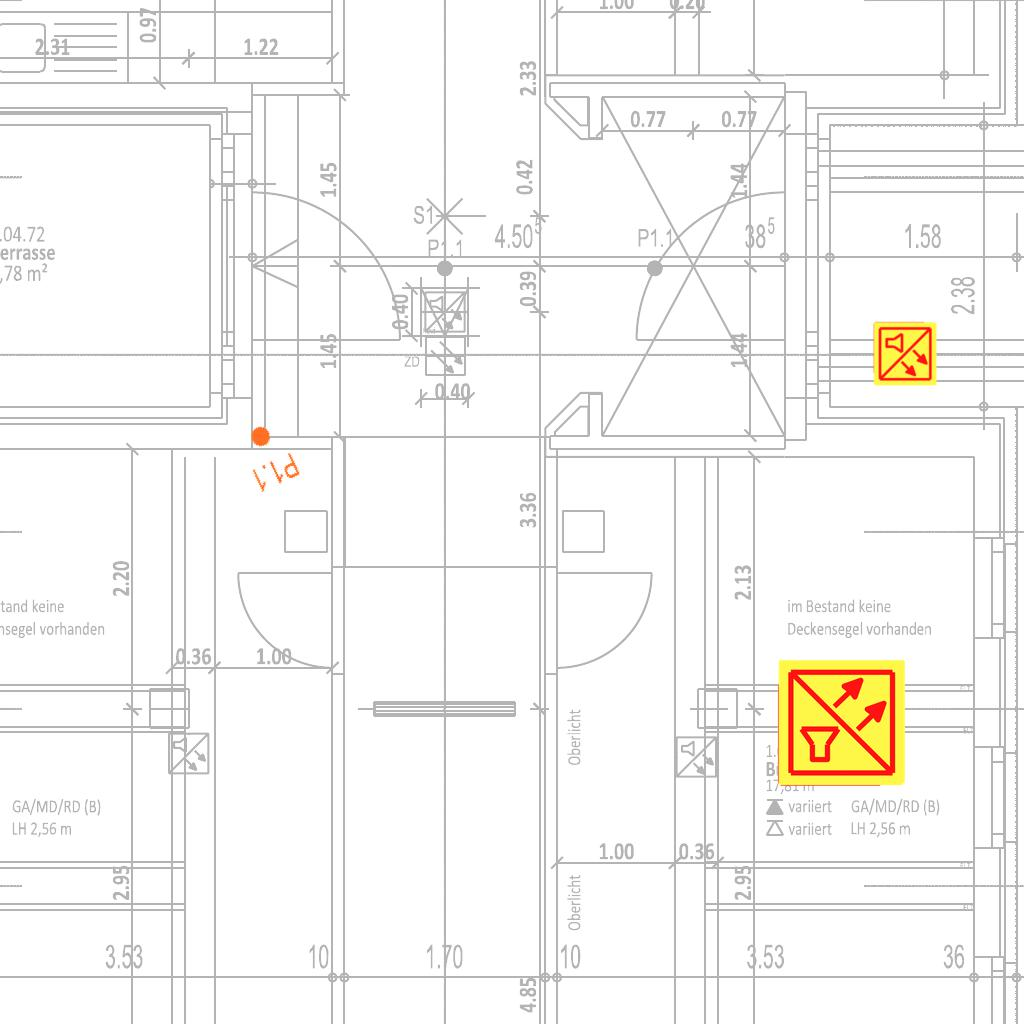Downlight_LED_Einbauleuchten_Flur: (233, 417, 303, 495)
OKW_Multisensormelder_(Kombination_optischer_Rauch-Kahlenmonoxid_Waerme-Melder): (776, 657, 908, 789), (872, 321, 938, 387)
